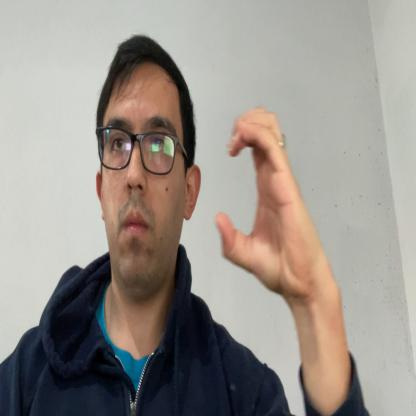C: (213, 107, 308, 295)
